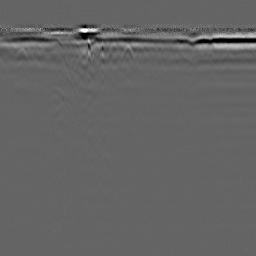cavity: (122, 42, 135, 61)
